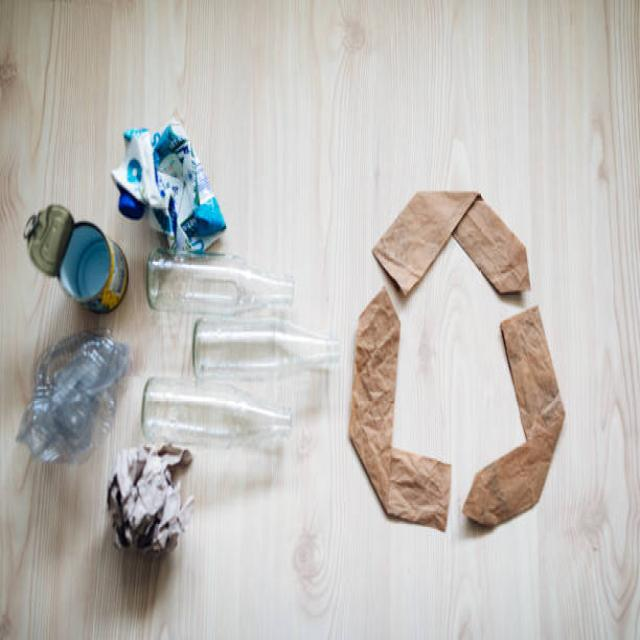glass: (139, 250, 343, 442)
metal: (23, 179, 132, 317)
plastic: (18, 336, 139, 458)
